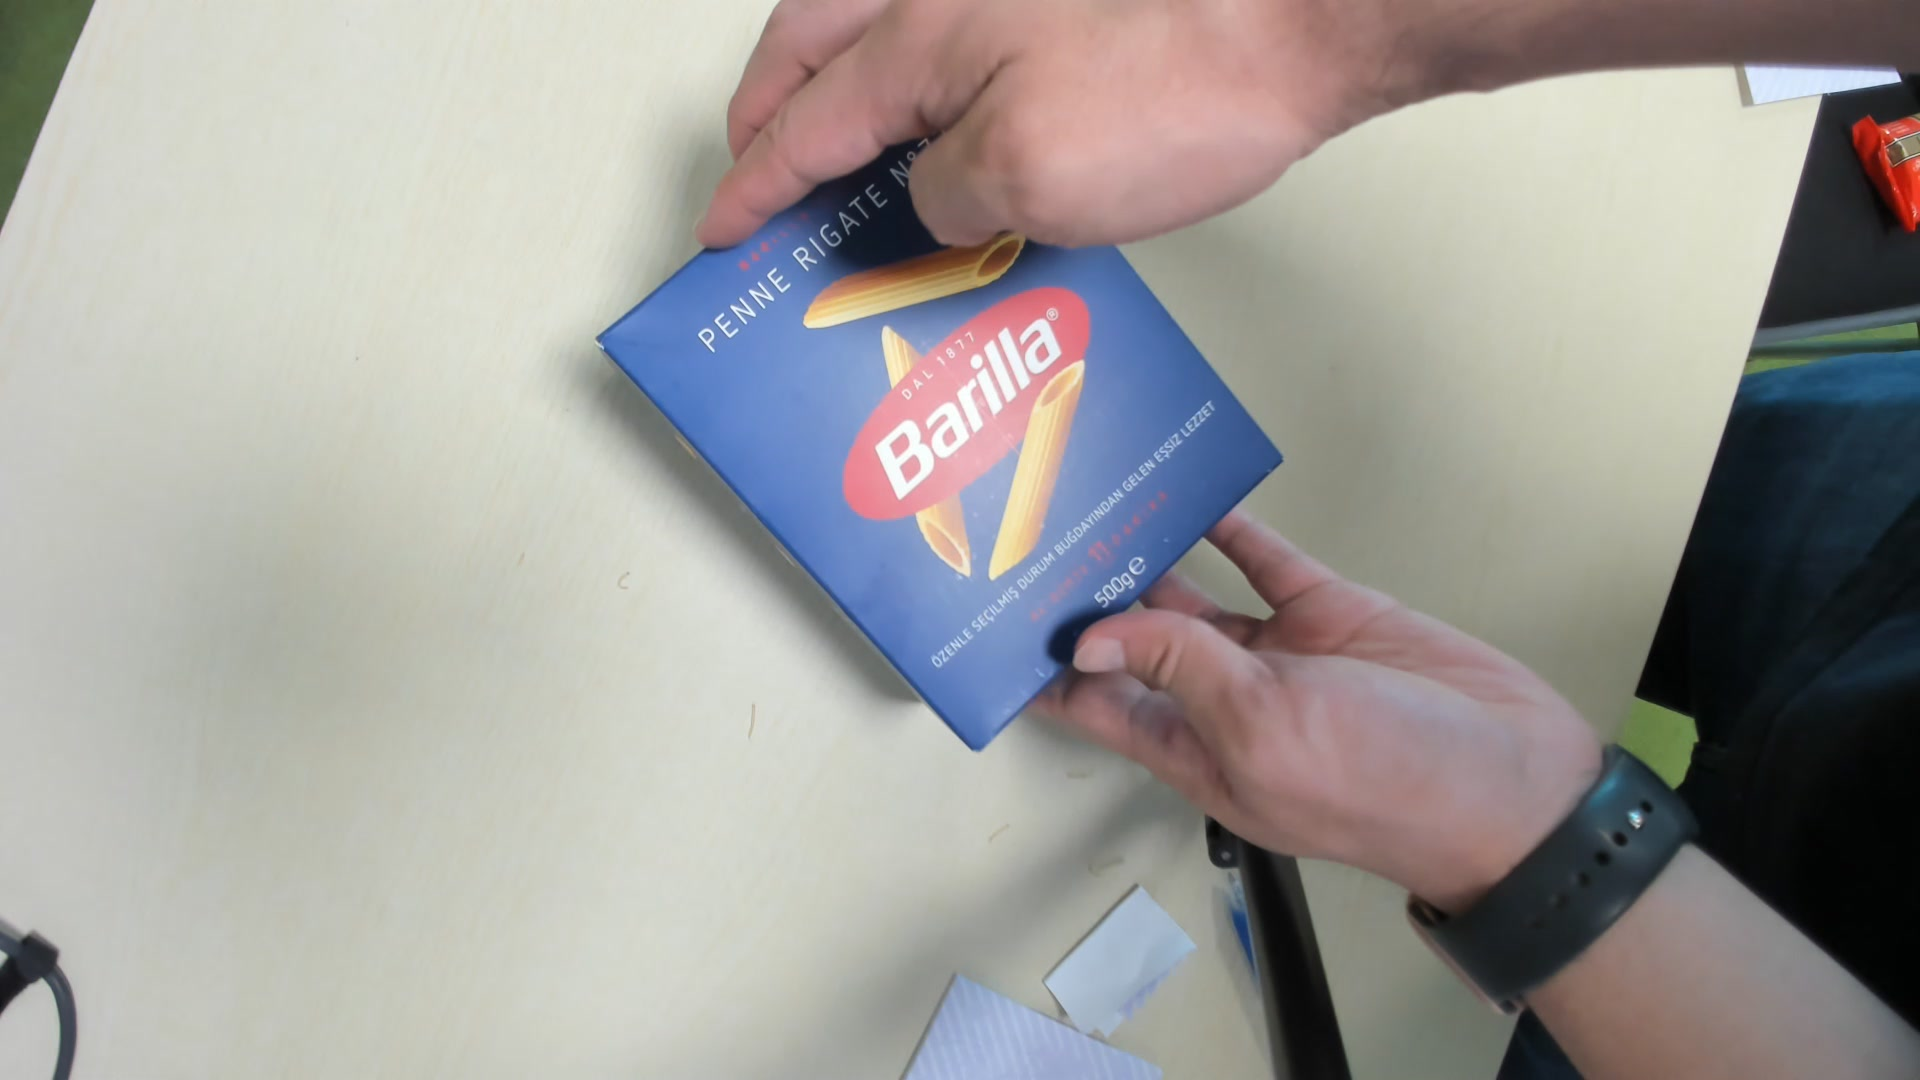Pasta_500-599g_NonHalal_NonHealthy: (593, 129, 1288, 753)
